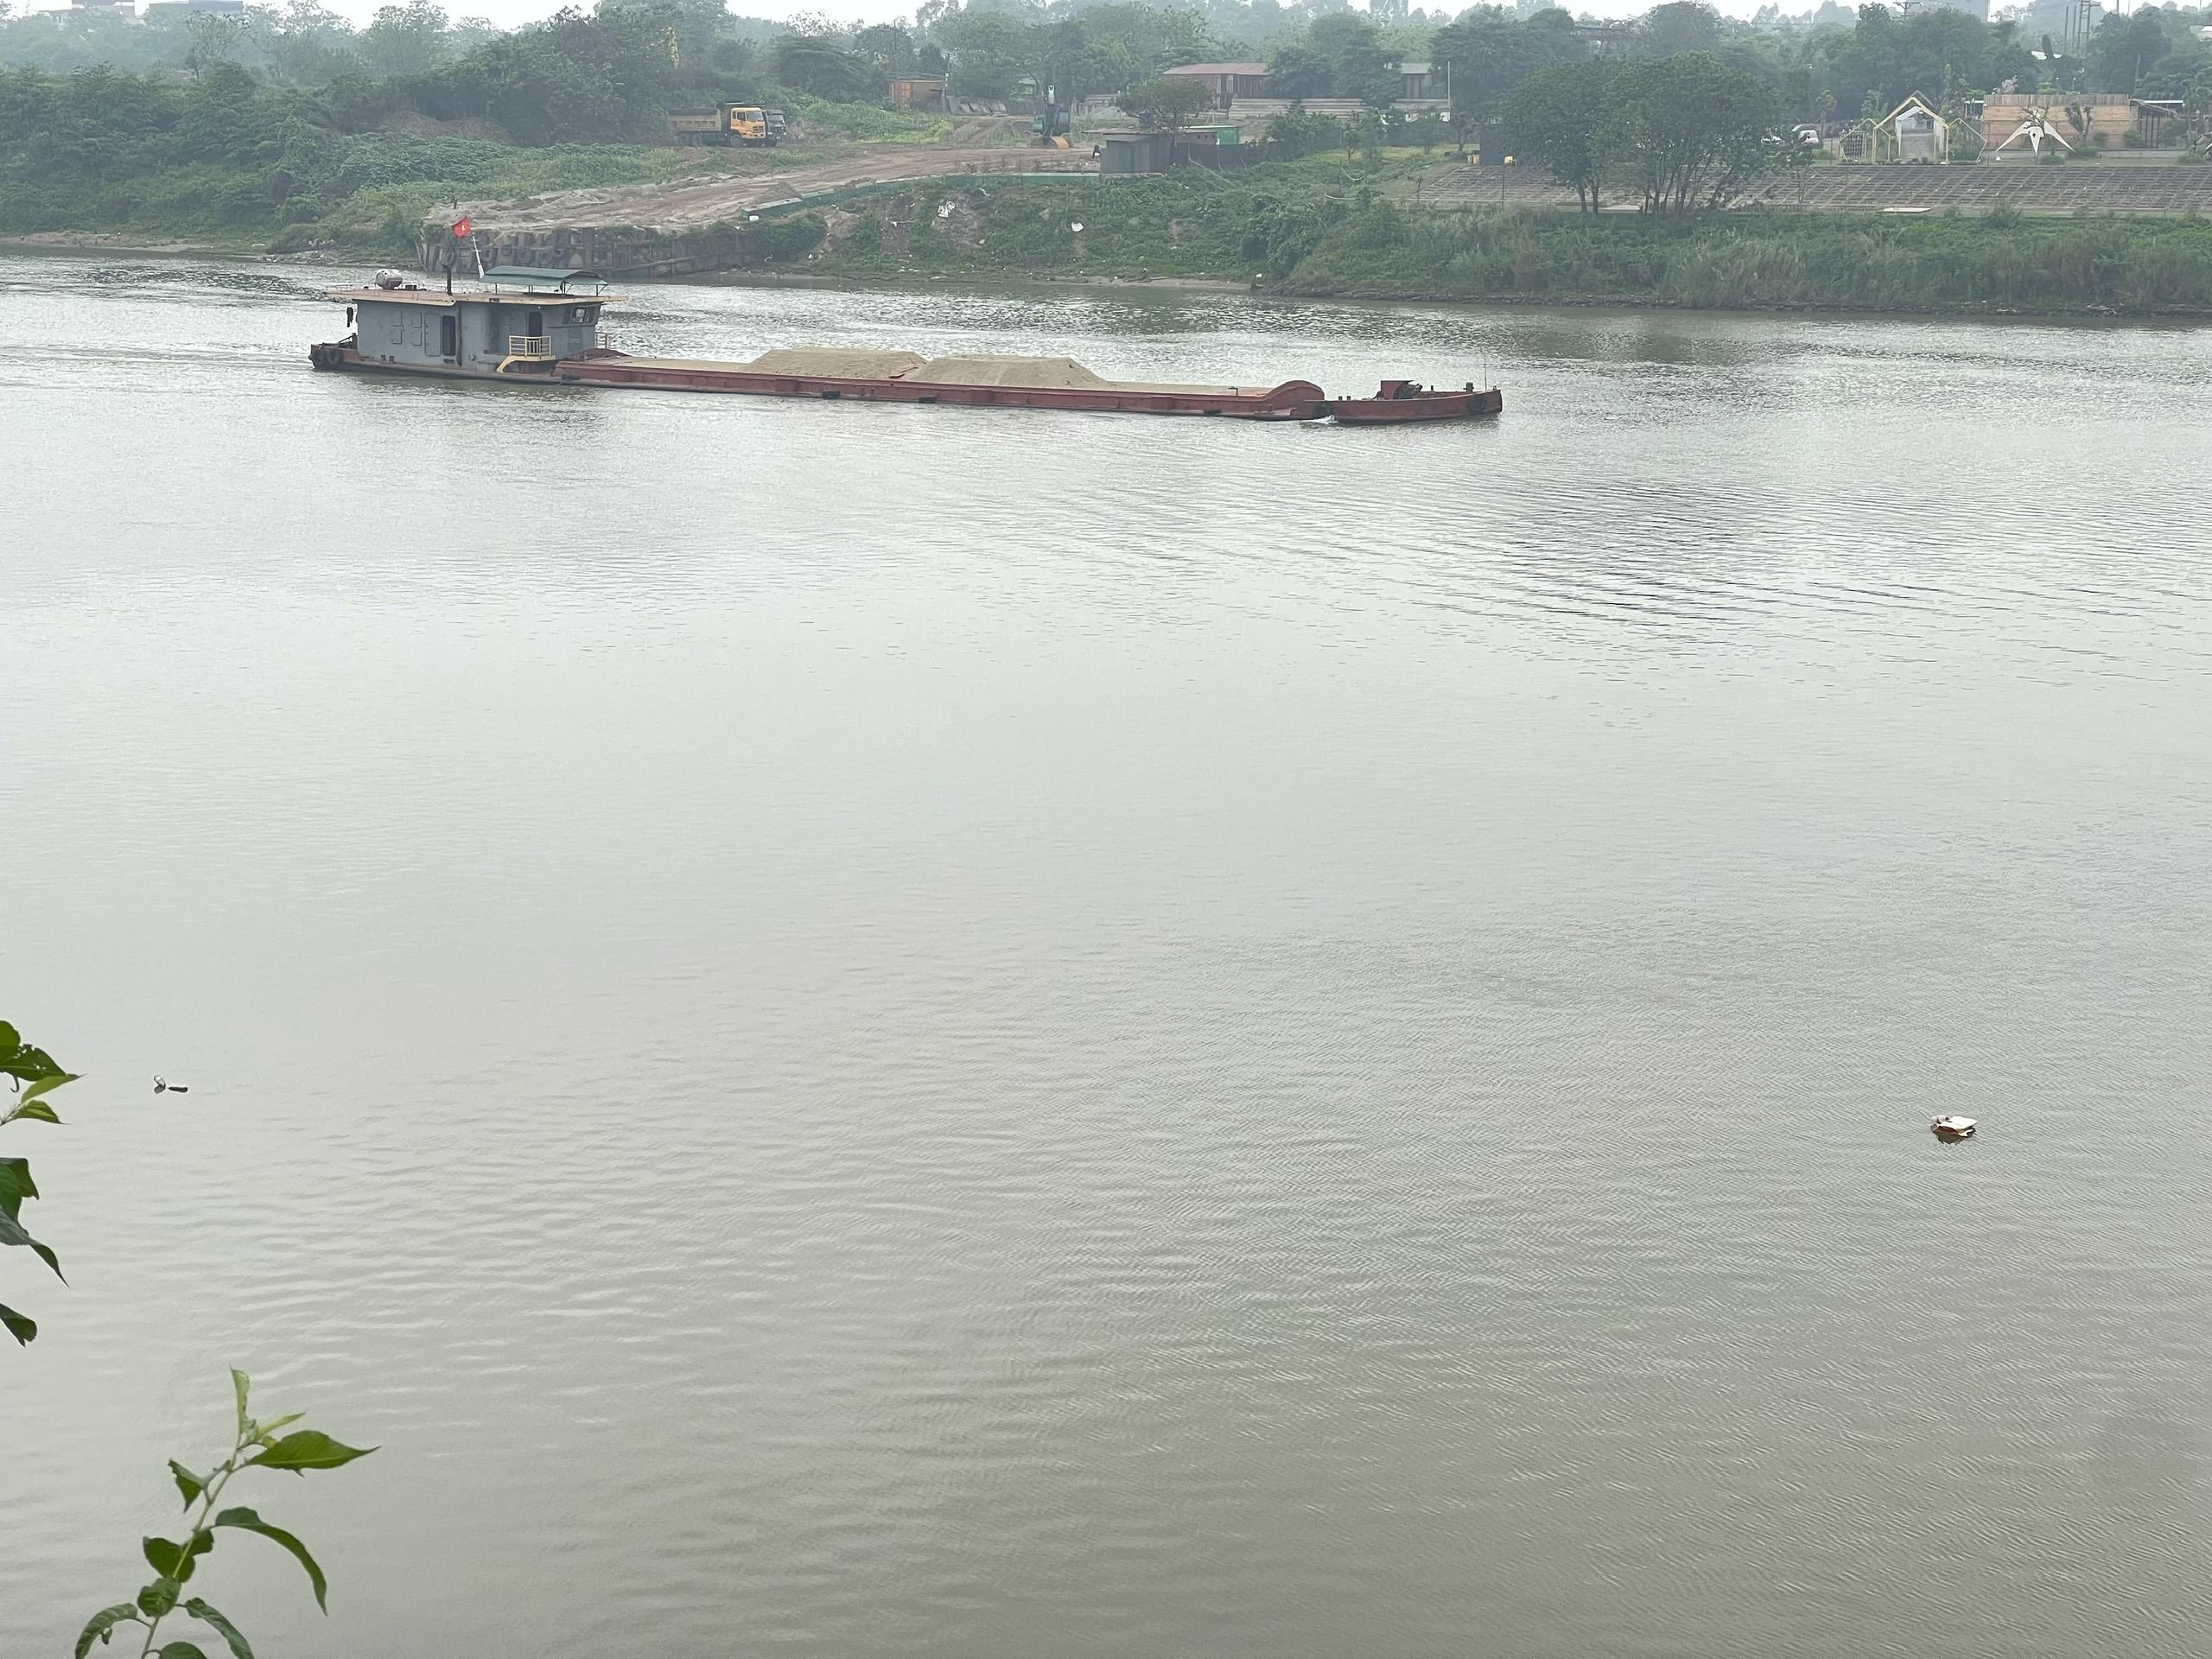Ship: (298, 261, 1515, 432)
